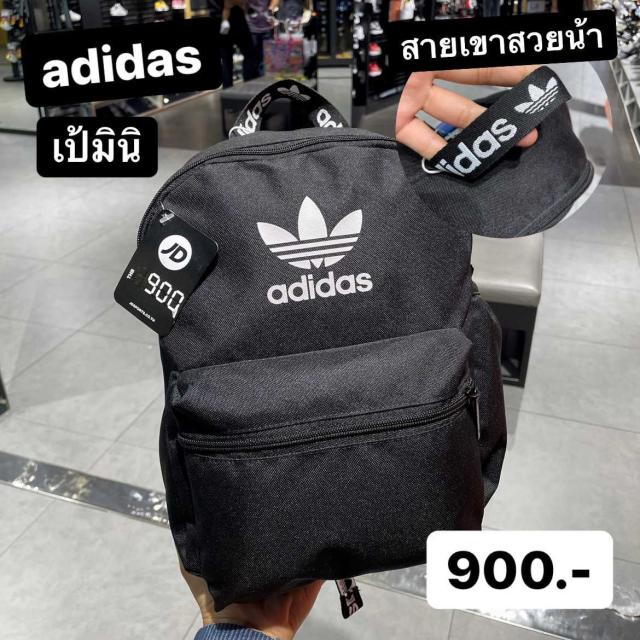Handbag: (140, 112, 498, 616)
